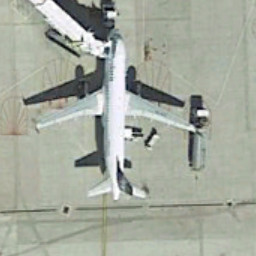Airplane: (29, 20, 202, 212)
